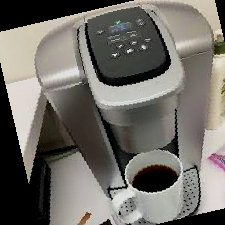10oz: (125, 48, 134, 55)
12oz: (140, 44, 148, 51)
4oz: (116, 43, 124, 50)
6oz: (130, 40, 139, 47)
8oz: (111, 51, 120, 58)
